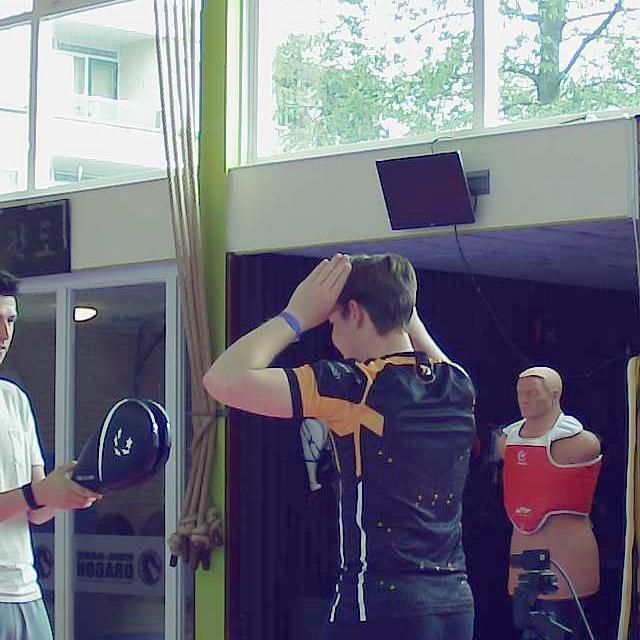paddle: (70, 397, 172, 492)
